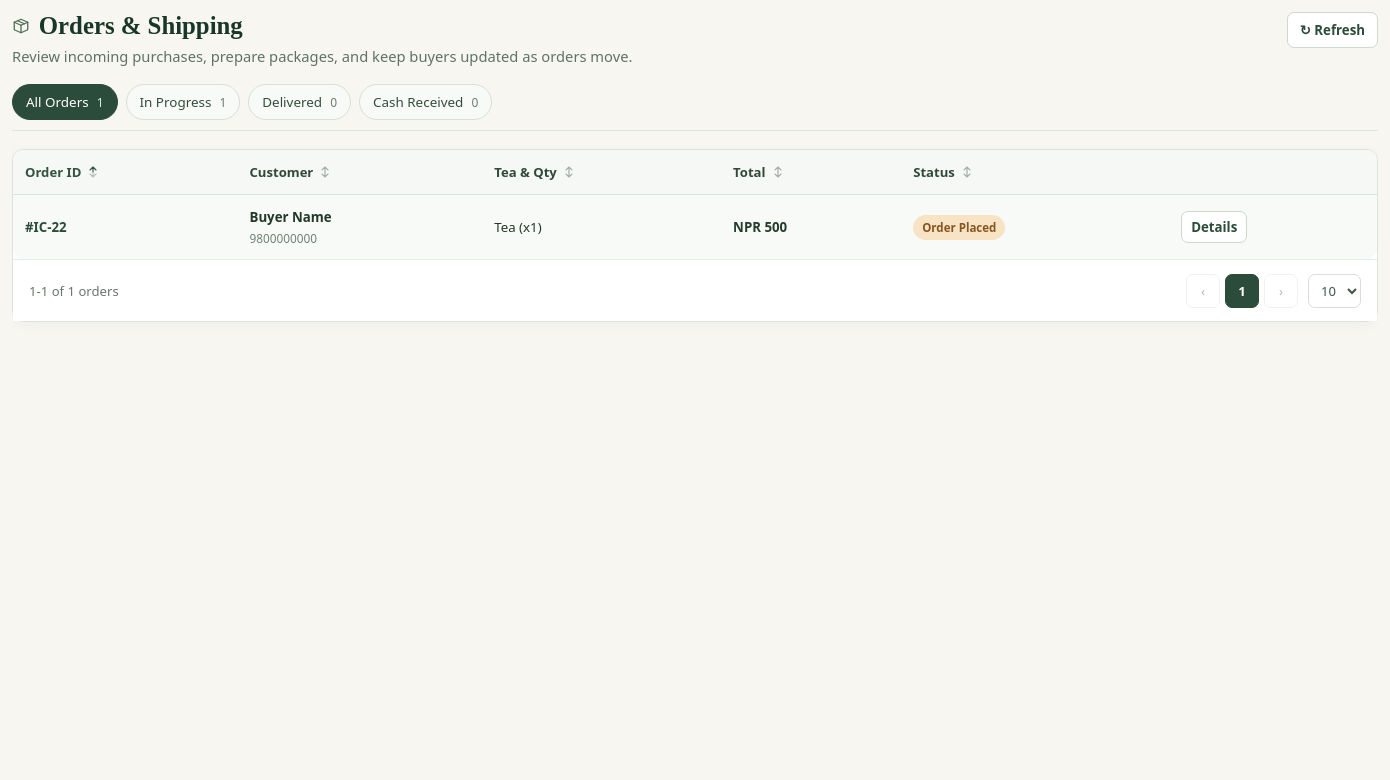
Test case: shows a newly placed order as the first shipment milestone
Expected: the text "Order Placed" is shown, top-left (913, 214), bottom-right (1005, 240)
Click the button with aria-label "View tracking for order 22".
click(1214, 227)  # box top-left (1181, 211), bottom-right (1247, 243)
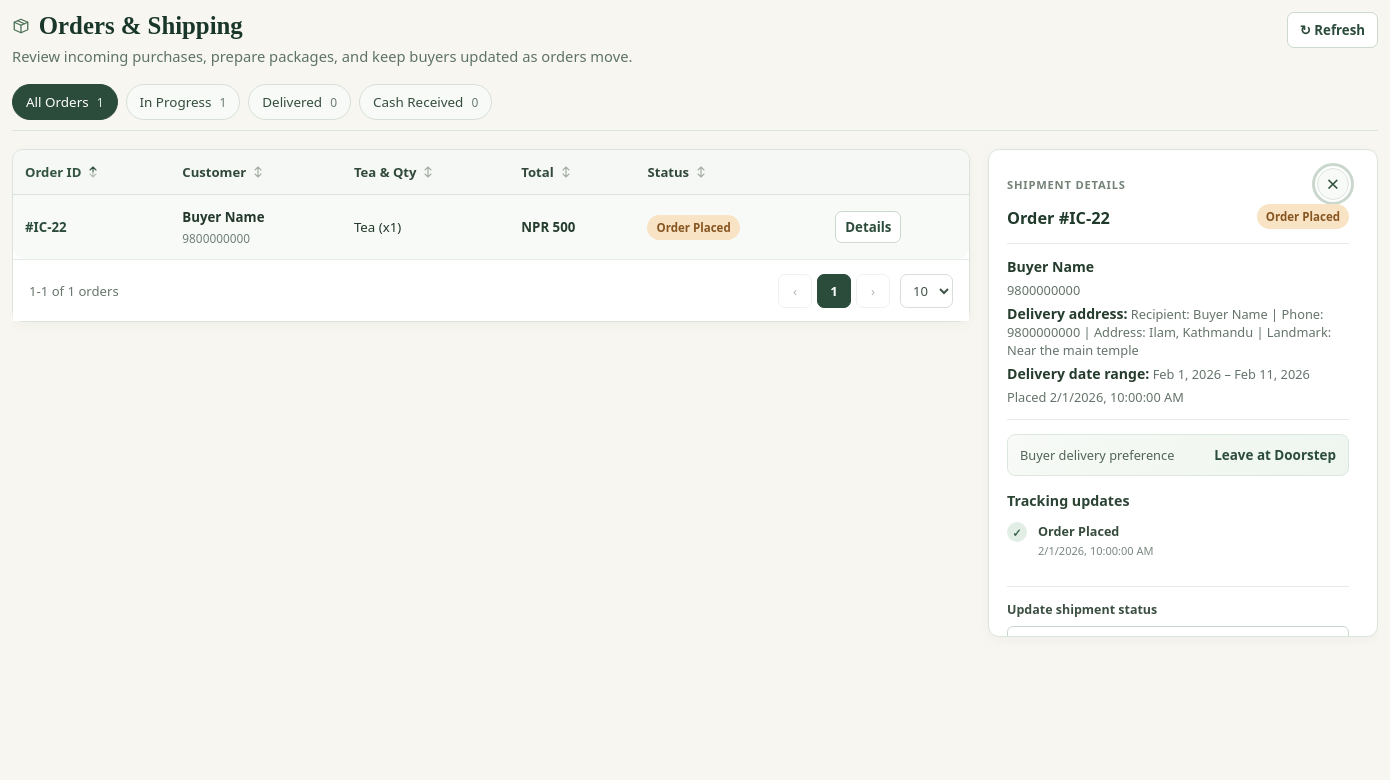
Expected: the 3rd text "Order Placed" is shown, top-left (1038, 522), bottom-right (1119, 540)
